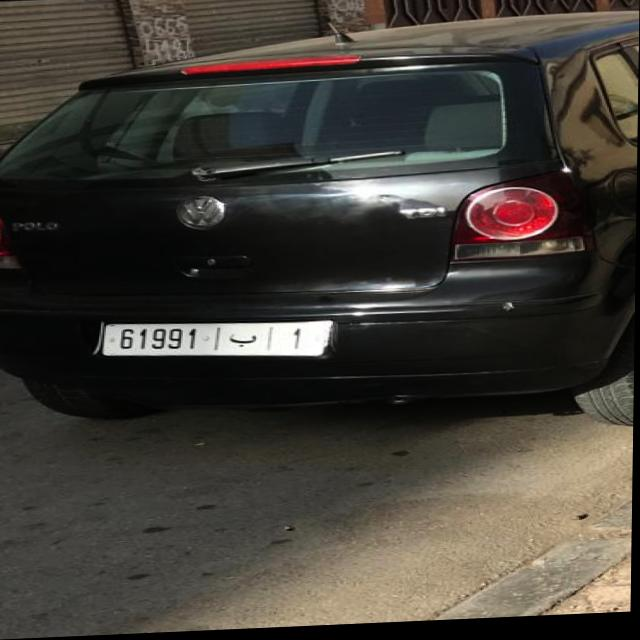License-Plate: (103, 323, 332, 358)
